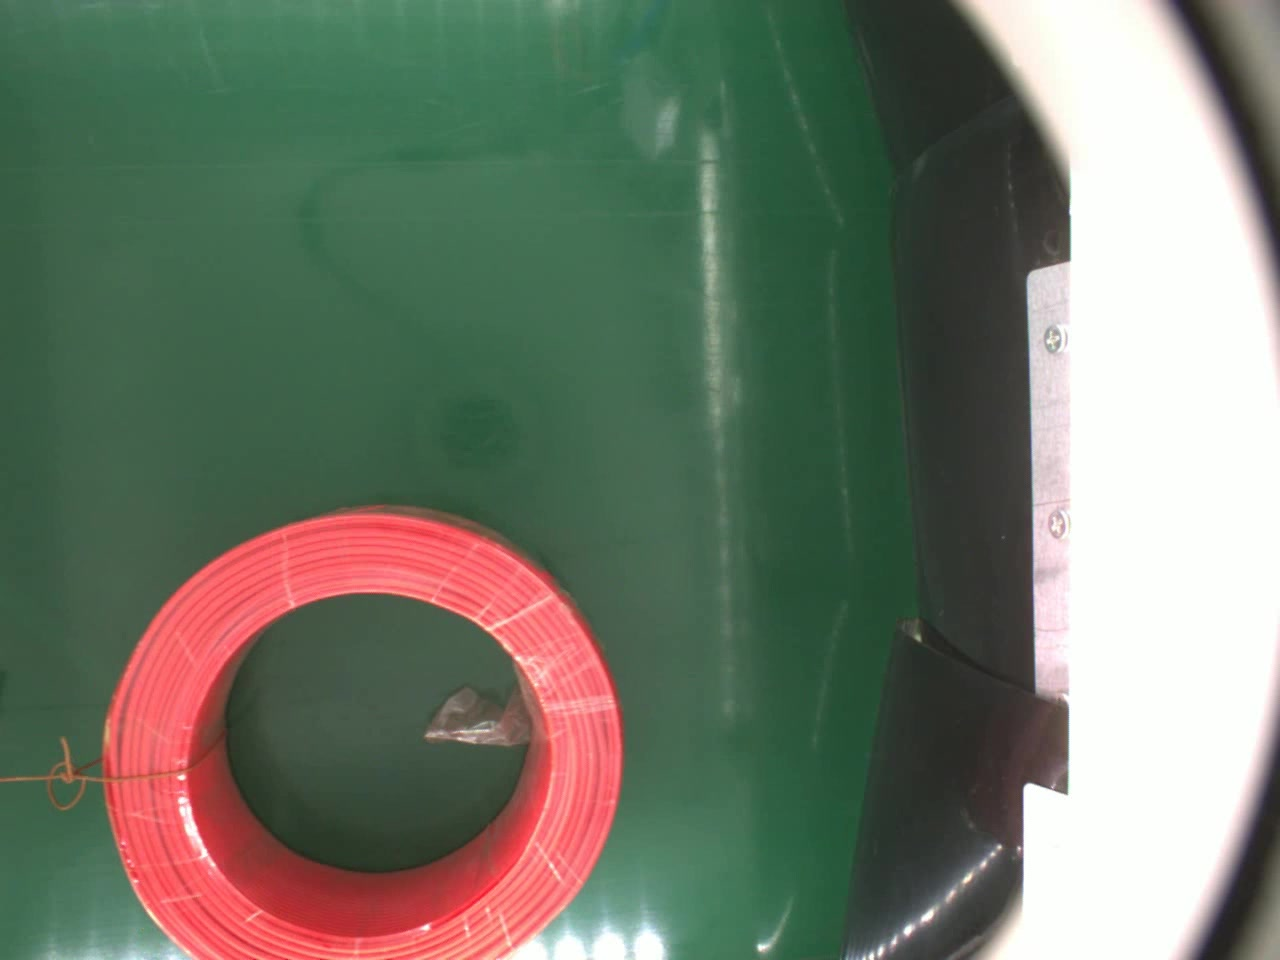red: (94, 498, 628, 960)
